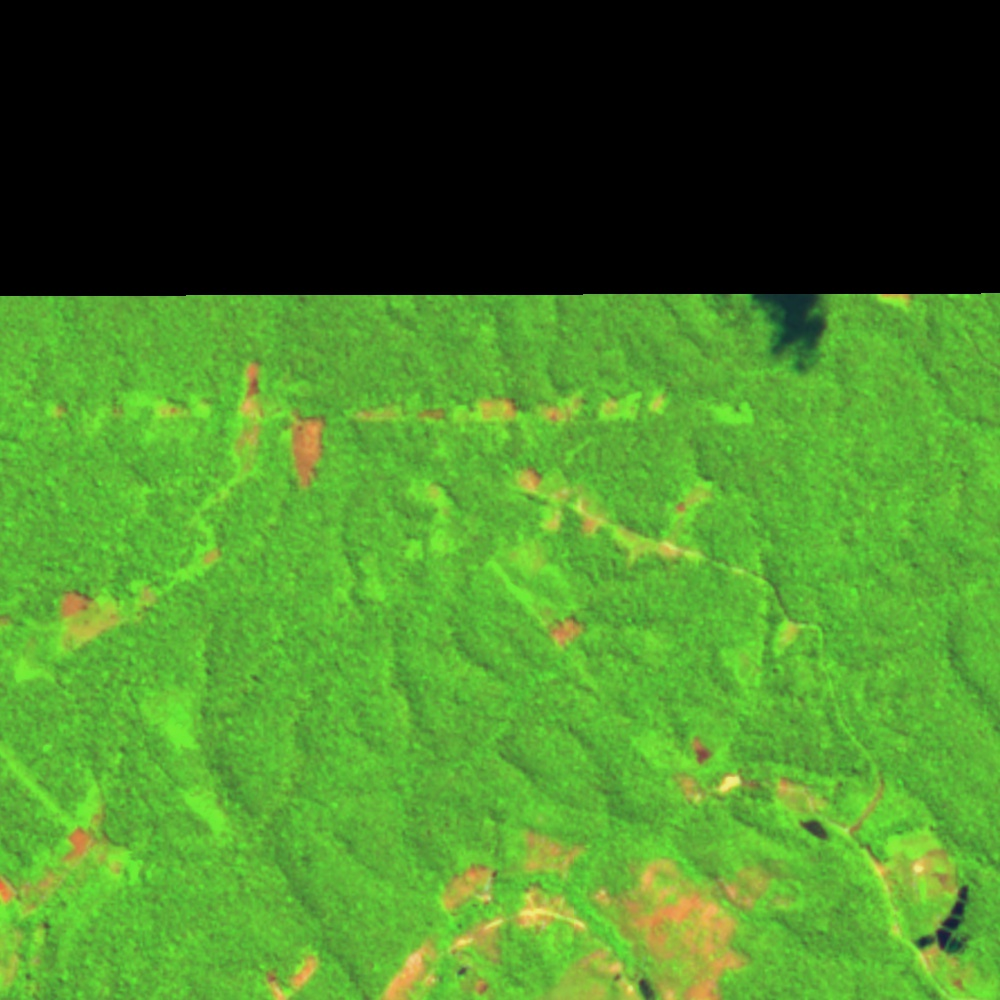legal: (676, 732, 1000, 1000), (380, 830, 787, 1000), (1, 796, 135, 993), (512, 463, 708, 574), (58, 537, 226, 648), (341, 385, 671, 431), (229, 359, 330, 492), (41, 390, 216, 427), (262, 952, 321, 1000), (538, 609, 588, 645), (768, 616, 804, 647), (879, 293, 922, 312)
